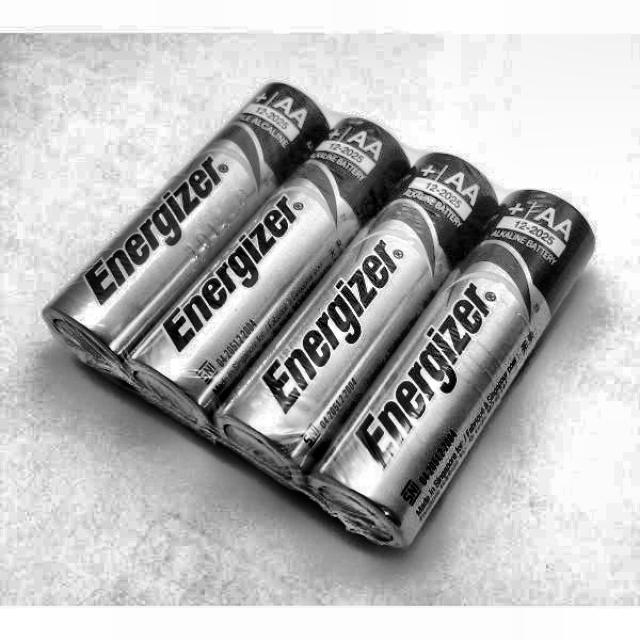drycell: (304, 185, 598, 553), (208, 150, 502, 492), (120, 114, 416, 430), (40, 75, 335, 382)
